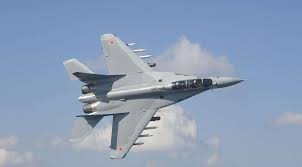fighter: (61, 32, 247, 160)
